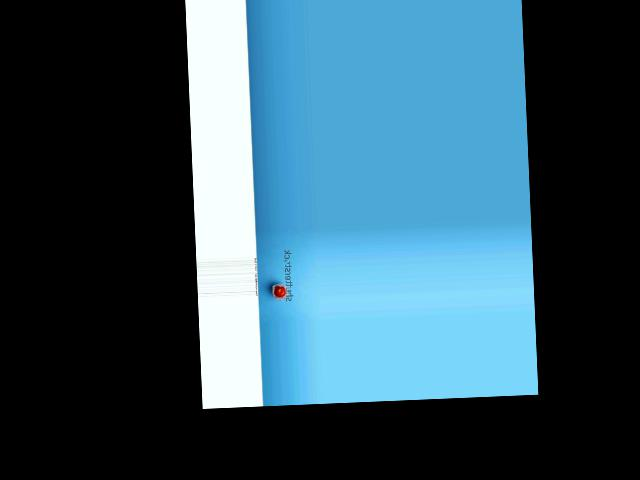tomato: (274, 285, 285, 296)
